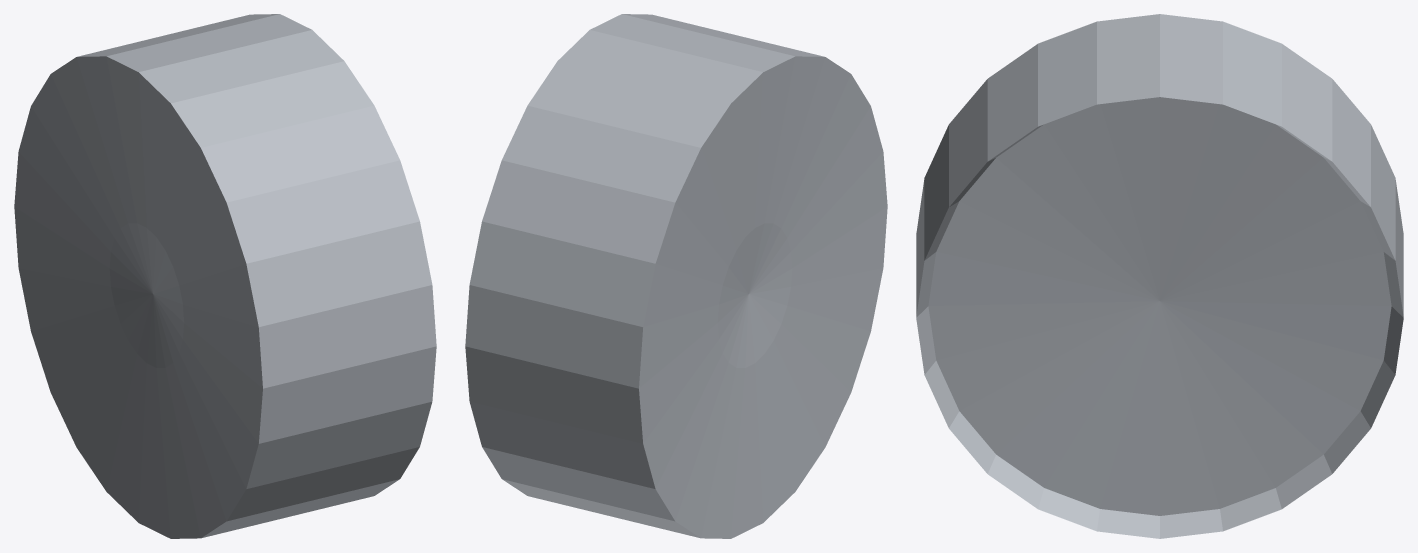
The model's file is wheel_FL.glb.
3 renders of one model, left to right at view 1: azimuth 30°, elevation 25°; view 2: azimuth 150°, elevation 25°; view 3: azimuth 270°, elevation 25°, orthographic. The views are drawn at different scales.
Visible parts, largest first — view 1: wheel_FL; view 2: wheel_FL; view 3: wheel_FL.
Boxes of the visible parts, x1,y1,x2,y2 form: wheel_FL: (14,14,436,538); wheel_FL: (465,14,887,538); wheel_FL: (916,14,1403,538).
Bounding box in the file's own units: 0.1638 × 0.4064 × 0.4064.
1 material, 1 textured.
